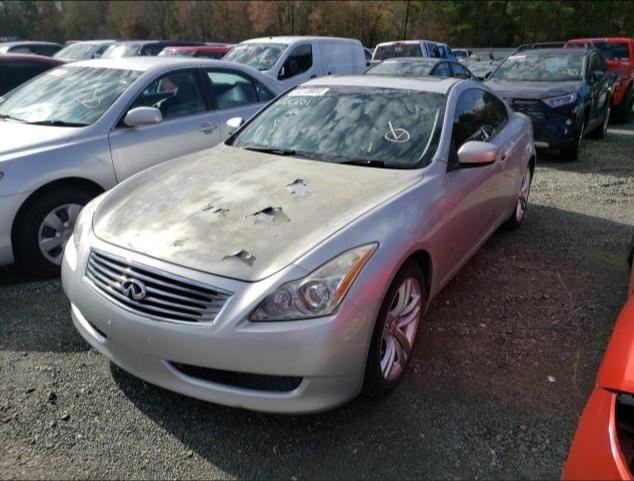Broken part: (93, 141, 423, 280)
Dent: (233, 402, 247, 409)
Flaking: (242, 203, 294, 227), (217, 246, 258, 270), (281, 176, 314, 204), (199, 201, 232, 217), (126, 241, 152, 255), (167, 238, 185, 248), (270, 231, 282, 242), (134, 231, 143, 238)
Scratch: (144, 336, 152, 345), (106, 319, 113, 326)
